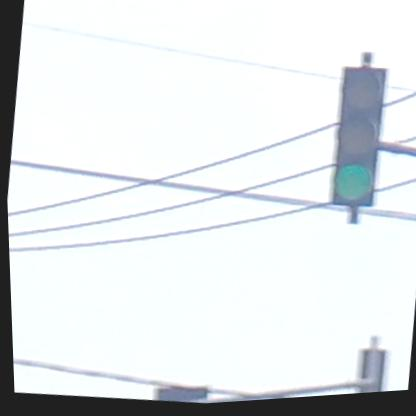green: (324, 68, 389, 213)
